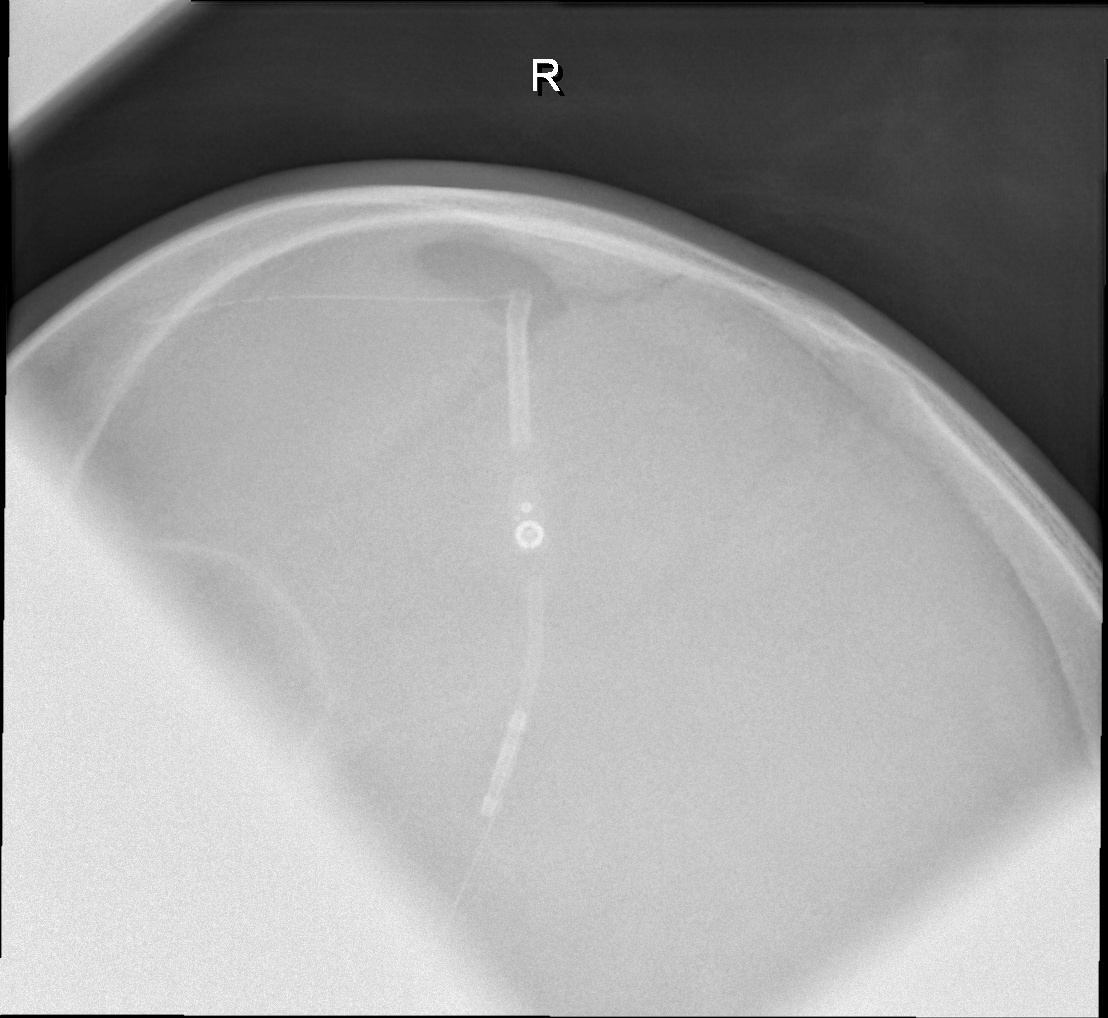Codman Hakim: (506, 495, 556, 570)
